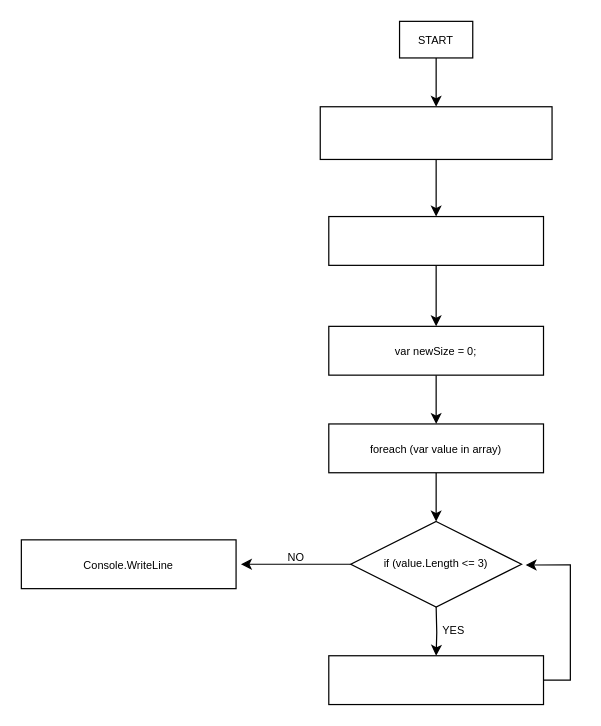
Image size: 601x726. Some labels were removed from this diagram. Each missing label, with the centre of its shape:
result[realSize] = value; realSize++;: (436,680)
string [] array = {"hello", "2", "world", "1234", "Eho", "Alfa"};: (435,132)
var result = new string[array.Length];: (436,240)
